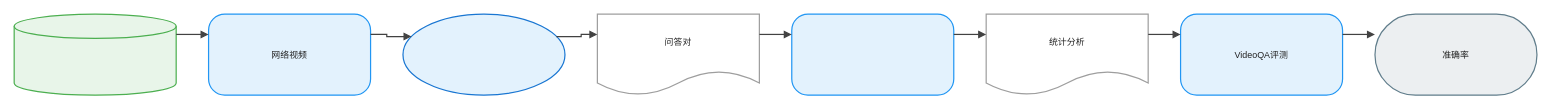
Image size: 1552x110. Some labels were removed from this diagram. The box of each missing label's shape, as (x1, y1, x2, y2) in pixels:
ActivityNet: (13, 13, 176, 95)
众包问答: (402, 13, 565, 95)
质量清洗: (791, 13, 954, 95)
